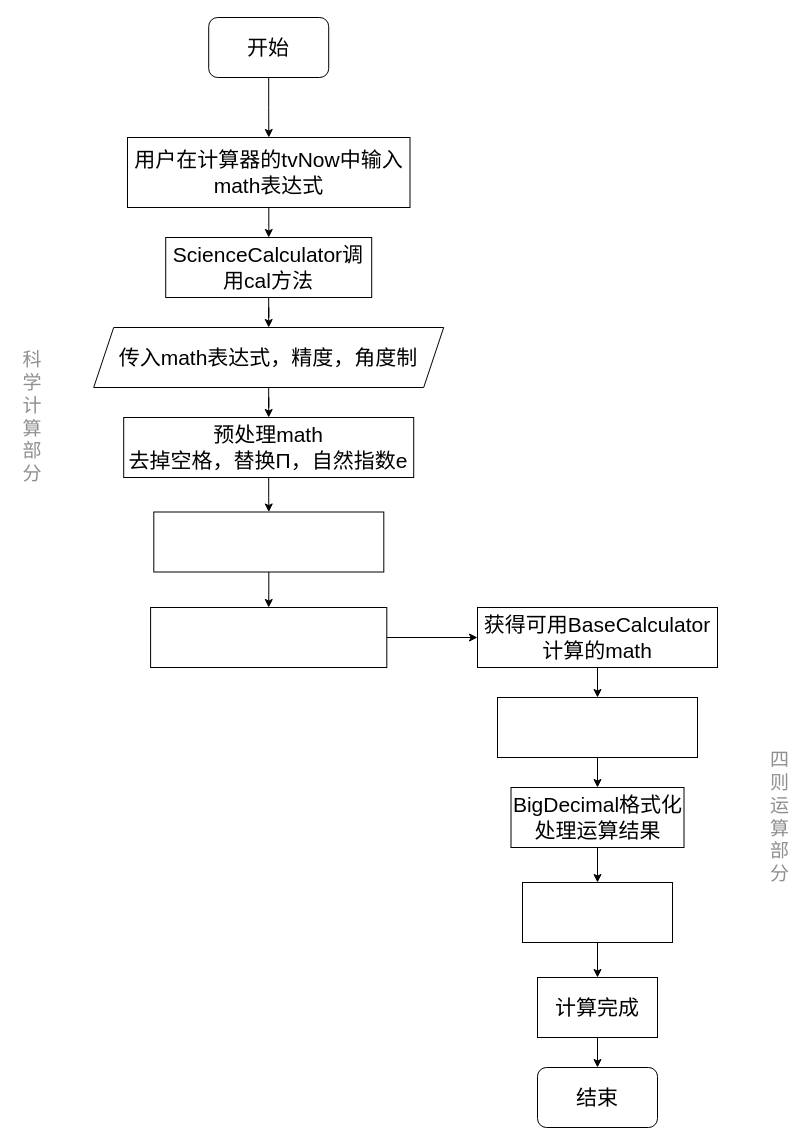
The diagram is 806 pixels wide and 1145 high, and some of its shapes have lost their labels. The box of each missing label's shape, as (x1, y1, x2, y2) in pixels:
BaseCalculator调用cal方法: (496, 696, 698, 758)
计算pow运算并替换原math相应部分: (153, 511, 384, 572)
计算剩下的科学运算符：sin,cos,tan,ln,log并替换: (150, 606, 387, 668)
运算结果显示到tvNow: (522, 882, 672, 942)
